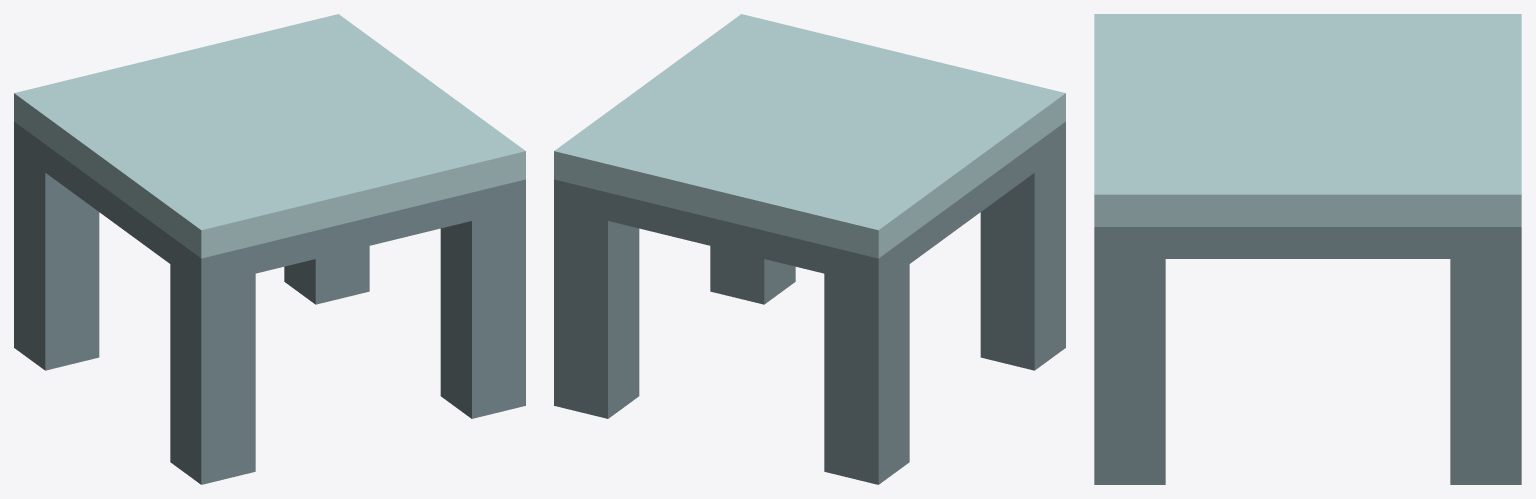
Rendered from mesa_tallado_cristal_madera_01.glb.
3 views of the same model, side by side, from view 1: azimuth 30°, elevation 25°; view 2: azimuth 150°, elevation 25°; view 3: azimuth 270°, elevation 25° (orthographic). The views are drawn at different scales.
Visible parts, largest first — view 1: mesa_tallado_cristal_madera; view 2: mesa_tallado_cristal_madera; view 3: mesa_tallado_cristal_madera.
Part boxes in pixels (bbox=[...]): mesa_tallado_cristal_madera: bbox=[14, 14, 525, 484]; mesa_tallado_cristal_madera: bbox=[554, 14, 1065, 484]; mesa_tallado_cristal_madera: bbox=[1094, 14, 1521, 484].
Size of the model in its own units: 1 by 0.75 by 1.
